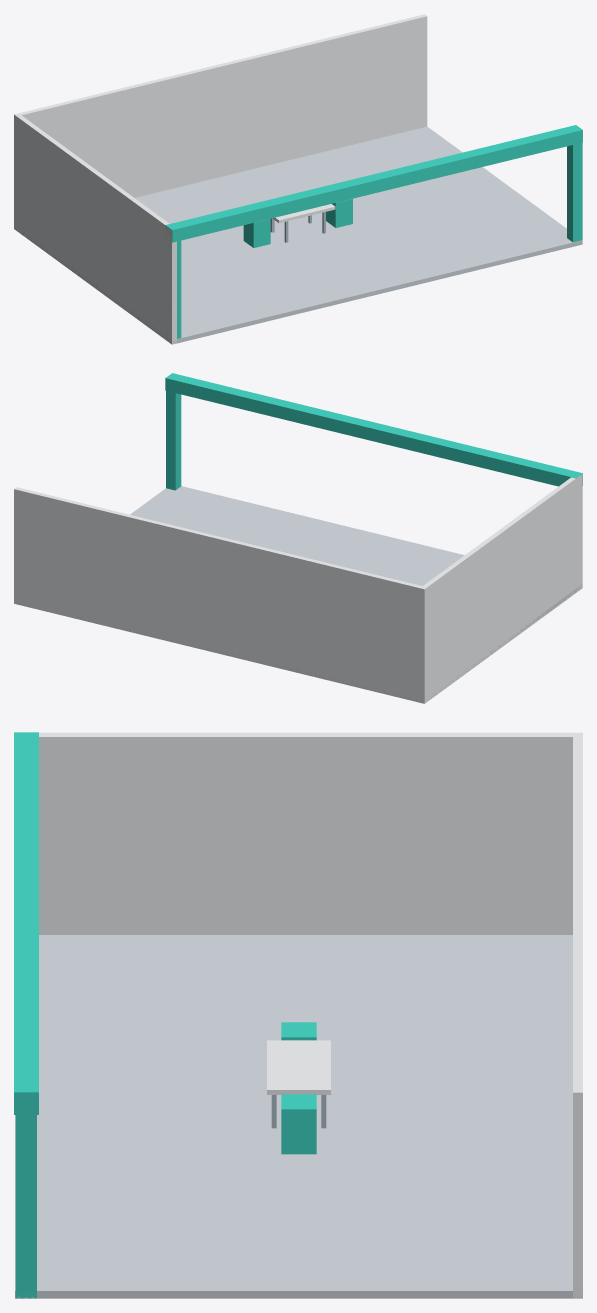
3 views of the same model, one above another, from view 1: azimuth 30°, elevation 25°; view 2: azimuth 150°, elevation 25°; view 3: azimuth 270°, elevation 25° (orthographic). The views are drawn at different scales.
Parts seen in each view (by area): view 1: Exhibition Booth Concept; view 2: Exhibition Booth Concept; view 3: Exhibition Booth Concept.
Part boxes in pixels (x1,y1,x2,y2): Exhibition Booth Concept: (14,14,582,344); Exhibition Booth Concept: (14,373,582,703); Exhibition Booth Concept: (14,732,582,1298).
Bounding box in the file's own units: 12 × 3.2 × 8.01.
